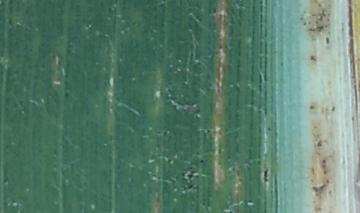tarspot: (261, 168, 271, 183), (199, 158, 207, 164)
